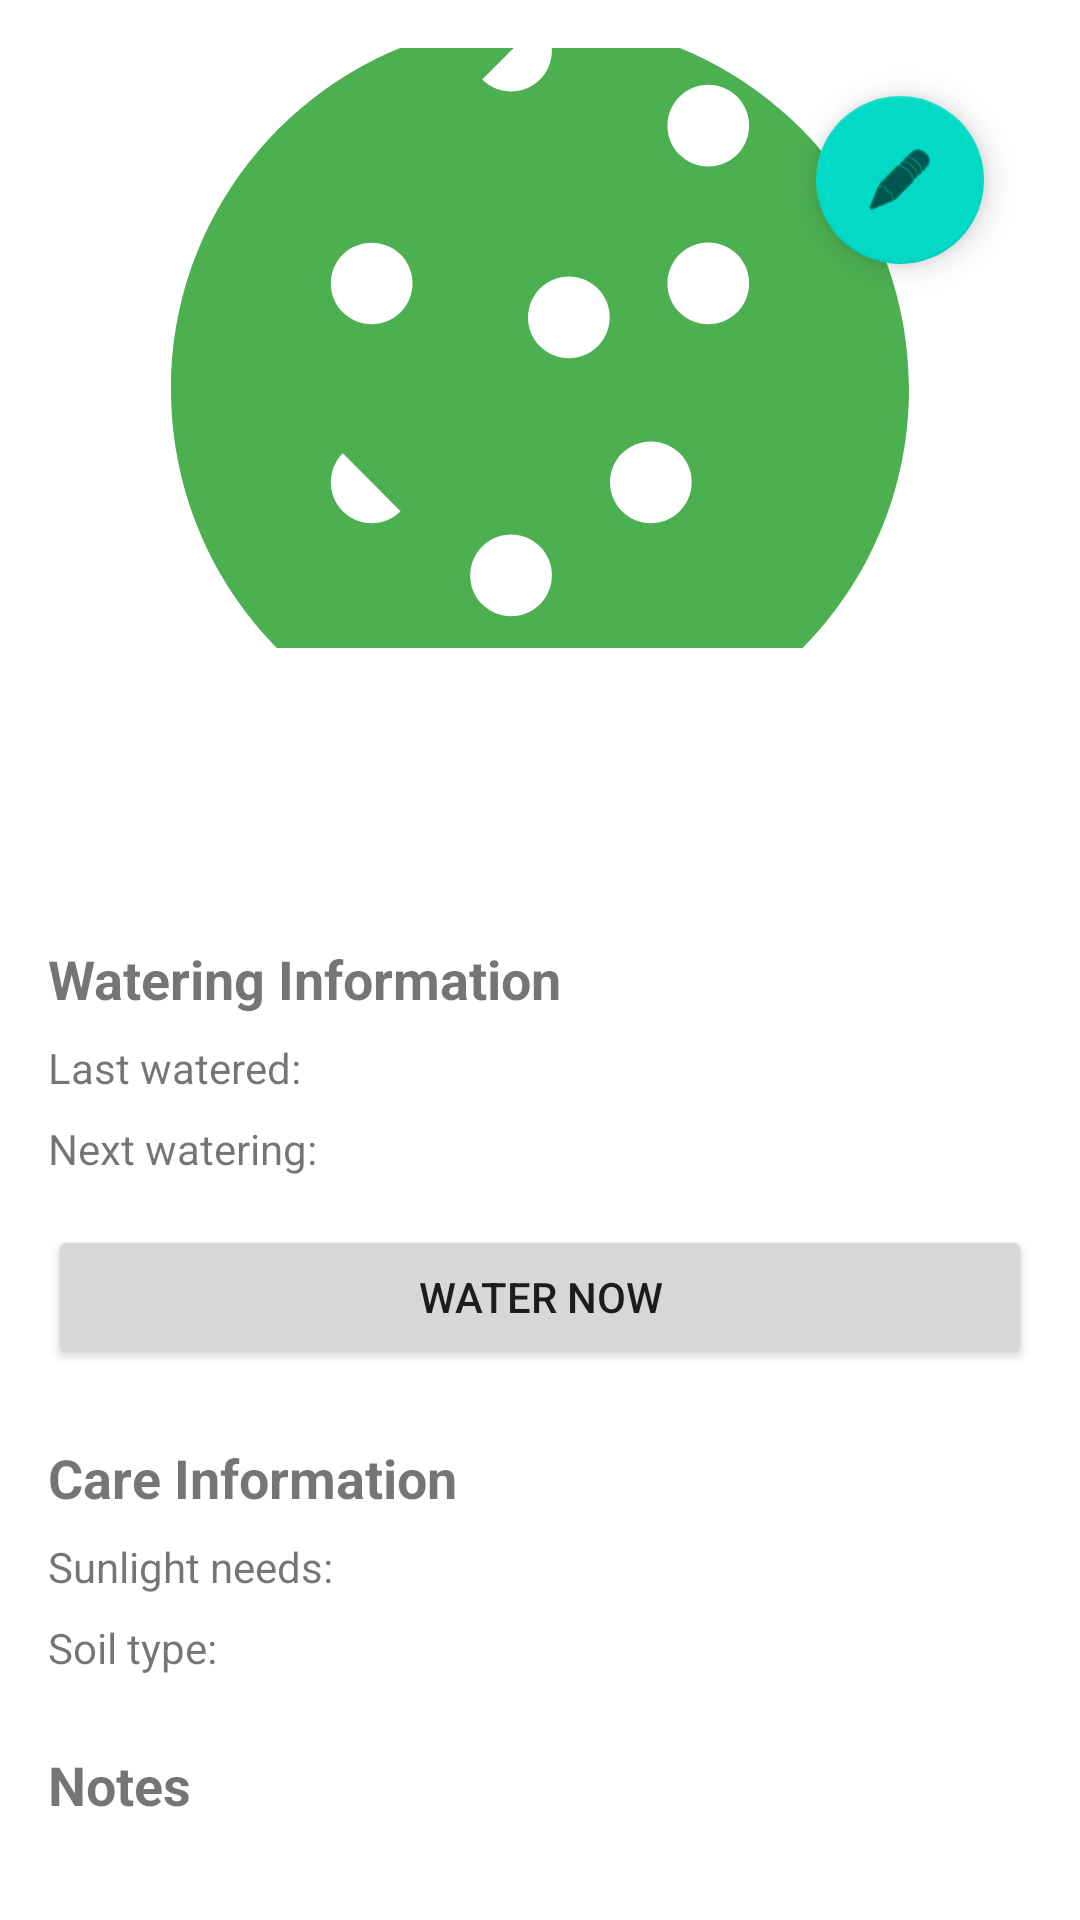

Point at icon controls on the screen. Image size 1080 x 1920, points as (x,y).
Edit plant: (900,180)
